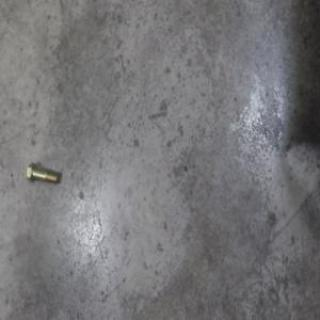Bolttrack_idkeyframe: (27, 167, 59, 193)
